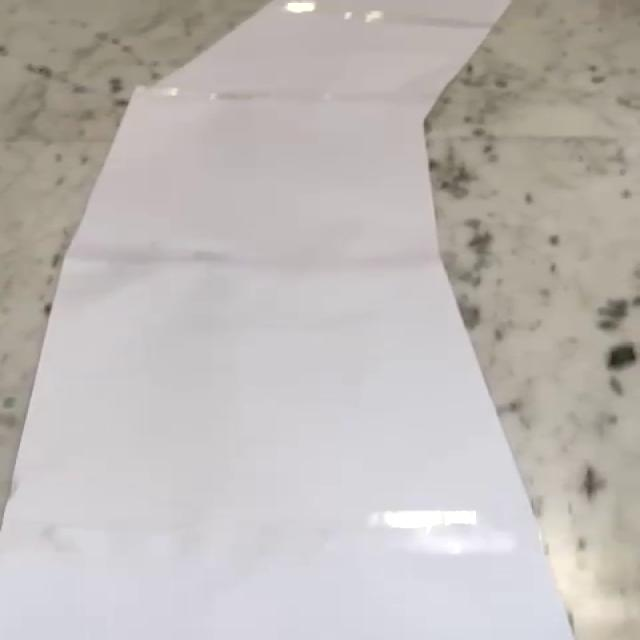road: (3, 0, 572, 640)
